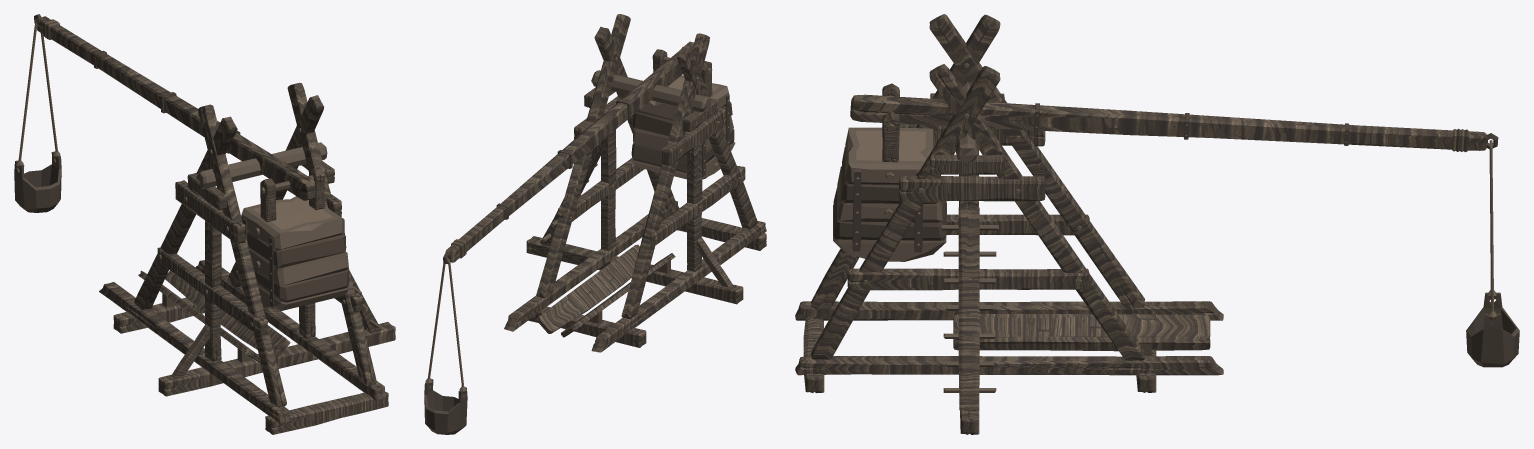
Rendered from SM_Wep_Trebuchet_01.fbx.
3 views of the same model, side by side, from view 1: azimuth 30°, elevation 25°; view 2: azimuth 150°, elevation 25°; view 3: azimuth 270°, elevation 25° (orthographic). The views are drawn at different scales.
Parts seen in each view (by area): view 1: SM_Wep_Trebuchet_01, SM_Wep_Trebuchet_Weight_01, SM_Wep_Trebuchet_Arm_01, SM_Wep_Trebuchet_Bucket_01; view 2: SM_Wep_Trebuchet_01, SM_Wep_Trebuchet_Arm_01, SM_Wep_Trebuchet_Weight_01, SM_Wep_Trebuchet_Bucket_01; view 3: SM_Wep_Trebuchet_01, SM_Wep_Trebuchet_Arm_01, SM_Wep_Trebuchet_Weight_01, SM_Wep_Trebuchet_Bucket_01.
Boxes of the visible parts, bbox=[...] form: SM_Wep_Trebuchet_01: bbox=[99, 82, 395, 434]; SM_Wep_Trebuchet_Weight_01: bbox=[235, 167, 349, 310]; SM_Wep_Trebuchet_Arm_01: bbox=[34, 14, 327, 200]; SM_Wep_Trebuchet_Bucket_01: bbox=[14, 22, 61, 212]; SM_Wep_Trebuchet_01: bbox=[504, 14, 766, 352]; SM_Wep_Trebuchet_Arm_01: bbox=[443, 41, 710, 263]; SM_Wep_Trebuchet_Weight_01: bbox=[630, 49, 735, 179]; SM_Wep_Trebuchet_Bucket_01: bbox=[424, 258, 467, 434]; SM_Wep_Trebuchet_01: bbox=[795, 14, 1223, 434]; SM_Wep_Trebuchet_Arm_01: bbox=[850, 82, 1498, 163]; SM_Wep_Trebuchet_Weight_01: bbox=[833, 83, 946, 261]; SM_Wep_Trebuchet_Bucket_01: bbox=[1466, 140, 1519, 367].
Size of the model in its own units: 520 by 584 by 1203.
